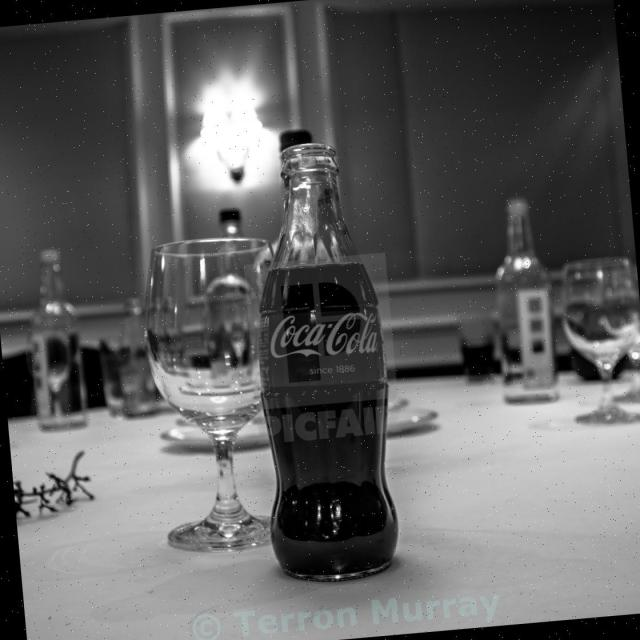coca-cola: (227, 131, 411, 591)
